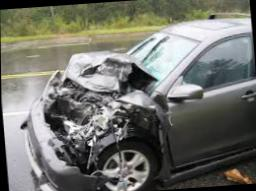Bonnet: (33, 49, 161, 164)
Bumper: (16, 99, 107, 191)
Fender: (62, 95, 174, 179)
